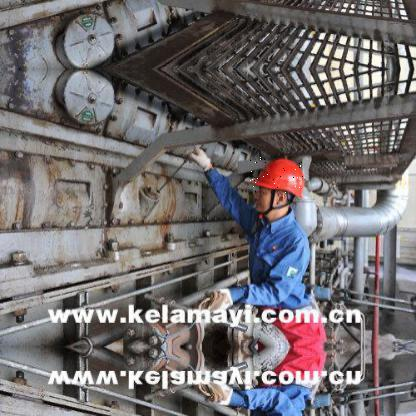safetyhelmet: (250, 156, 304, 198)
